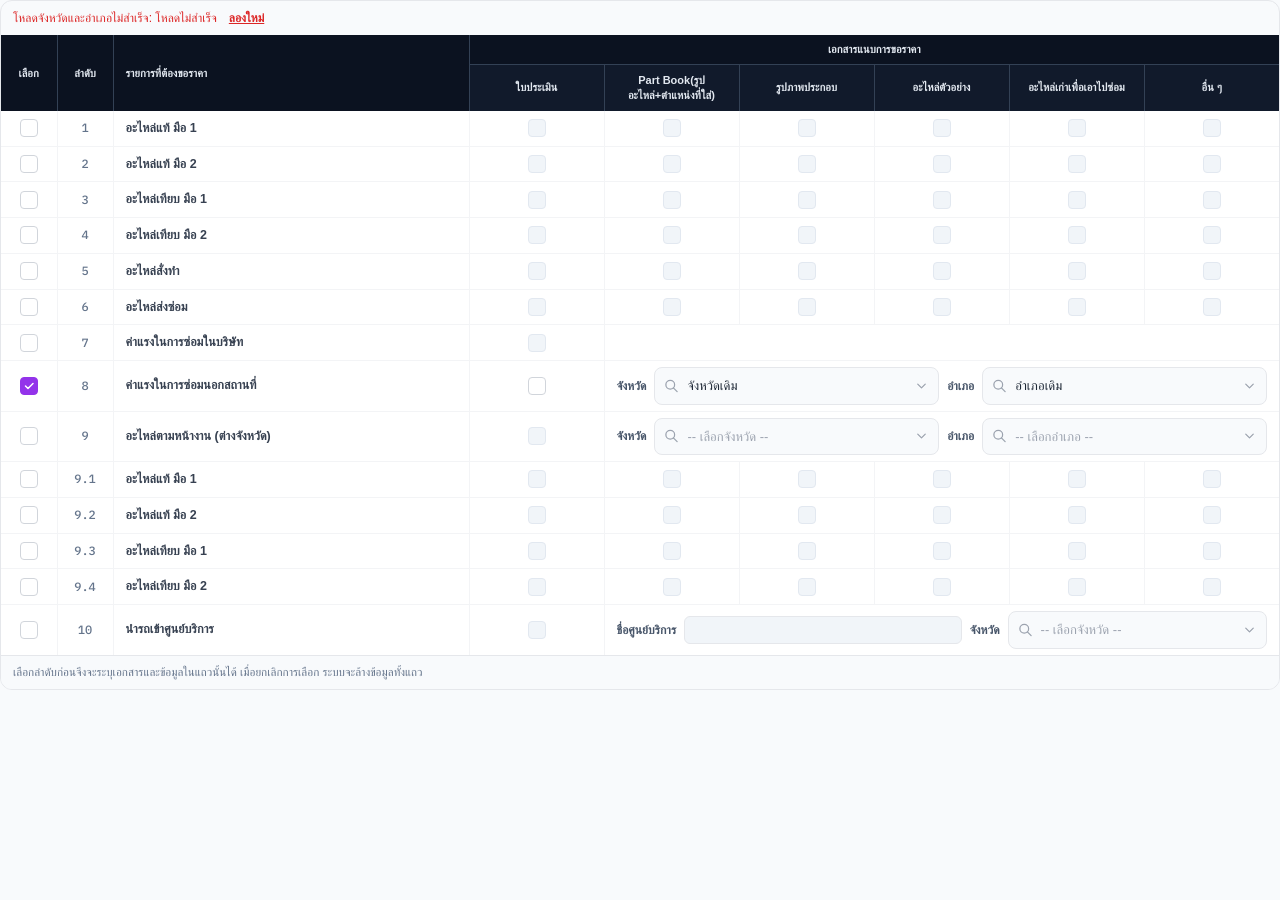
Test: retains saved locations on load failure and retries without clearing them
Expected: the message "โหลดจังหวัดและอำเภอไม่สำเร็จ: โหลดไม่สำเร็จ ลองใหม่" is shown, [13,9,264,27]
Expected: the dropdown named "จังหวัด — ลำดับ 8" holds "จังหวัดเดิม", [654,367,939,404]
Click the button "ลองใหม่" at (247, 18), box [229,9,264,27]
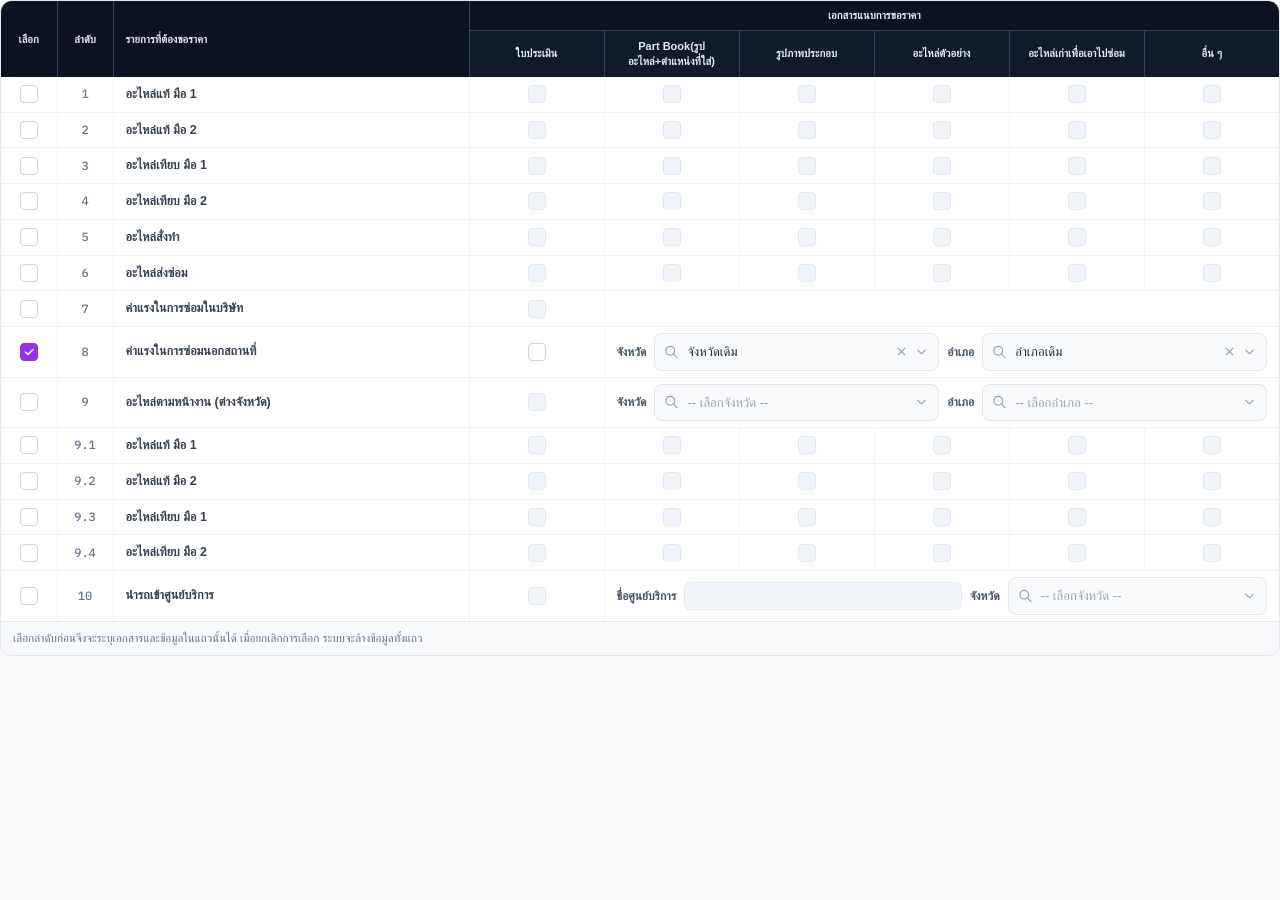
Expected: the dropdown named "จังหวัด — ลำดับ 8" holds "จังหวัดเดิม", [654,333,939,370]
Result: the dropdown named "จังหวัด — ลำดับ 8" is enabled at [654,333,939,370]
